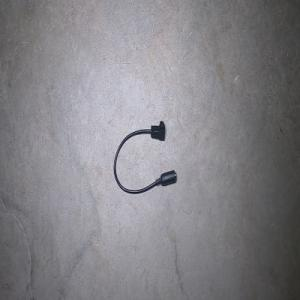Wire: (113, 121, 176, 194)
